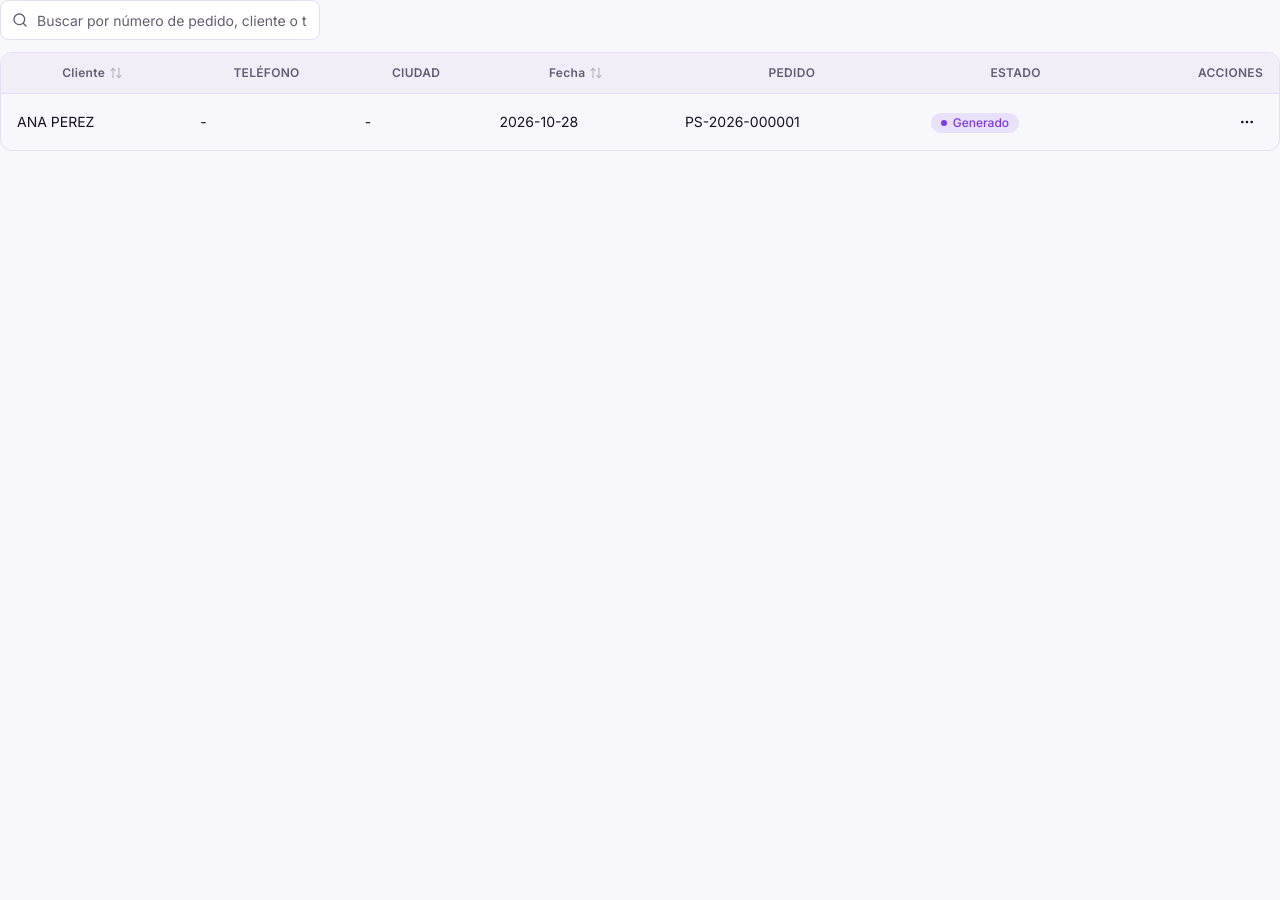
Test: HistoryTable › removes a deleted label from the local table after confirming
Click the button named "Acciones para el rótulo PS-2026-000001" at point(1247, 122), box [1231,106,1263,138]
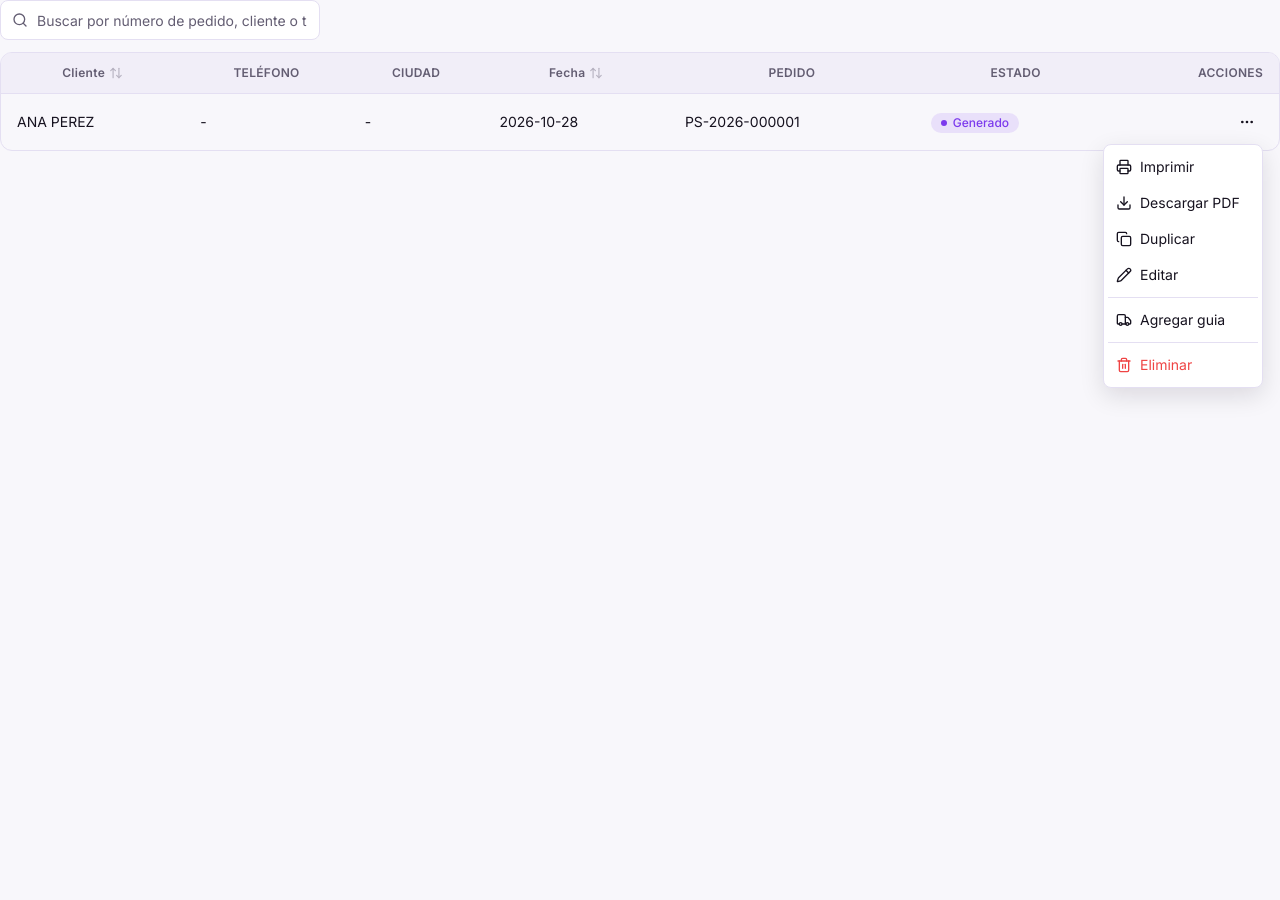
Click the menu item "Eliminar" at point(1154, 364), box [1116,356,1192,373]
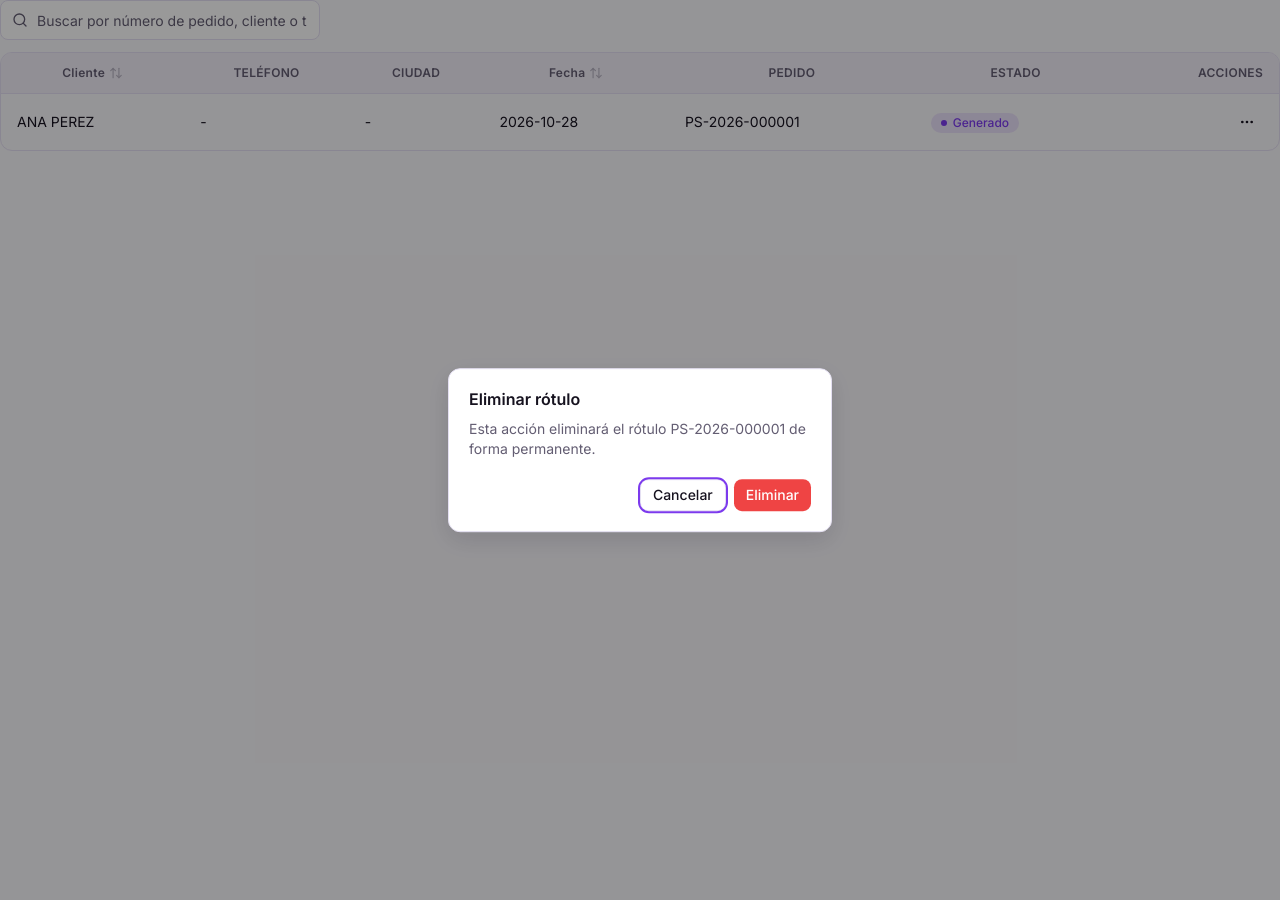
Click the button "Eliminar" at point(772, 495), box [734,479,811,511]
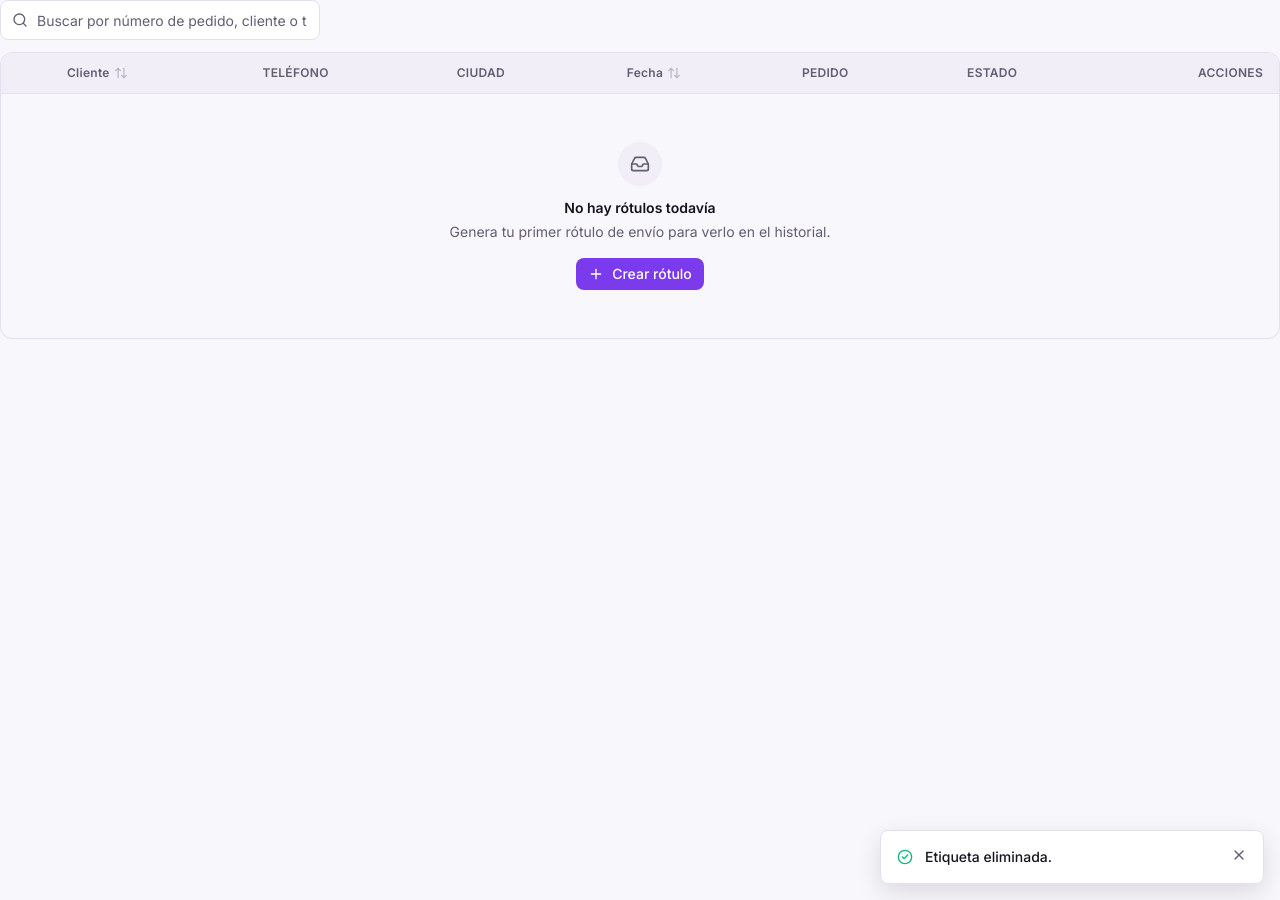
Check: the text "Etiqueta eliminada." is shown, box [925,848,1052,865]
Check: the text "ANA PEREZ" is gone
